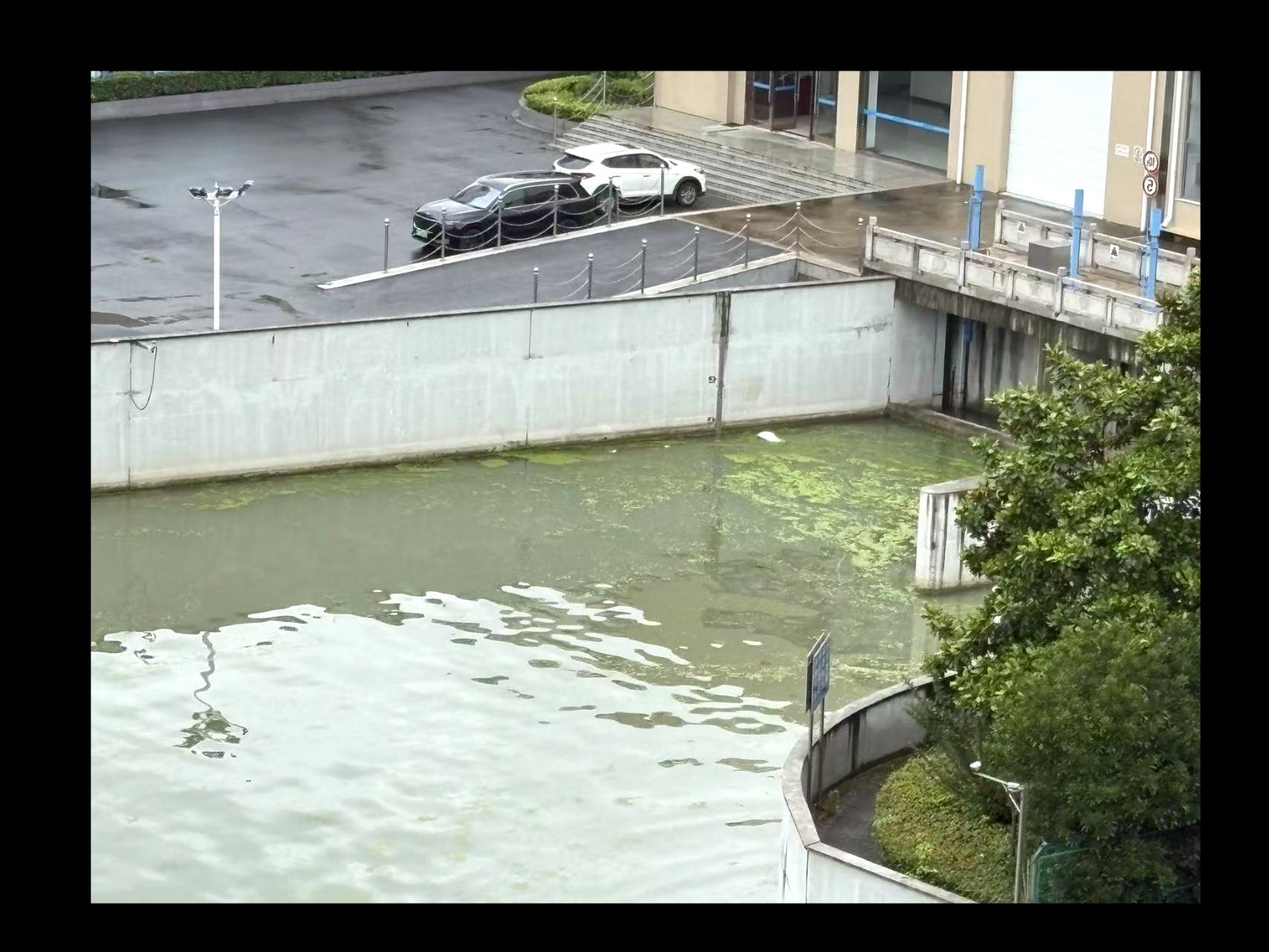Other: (837, 472, 916, 553), (732, 453, 836, 495), (198, 483, 253, 509), (523, 449, 577, 463), (479, 454, 511, 469)
Plastic wastes: (757, 430, 783, 442), (610, 449, 618, 452), (664, 445, 668, 447)
